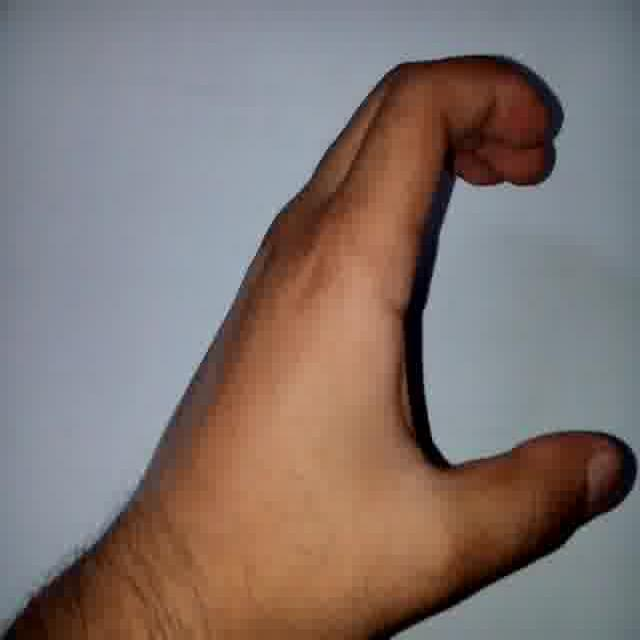Alphabet-C: (154, 46, 632, 589)
